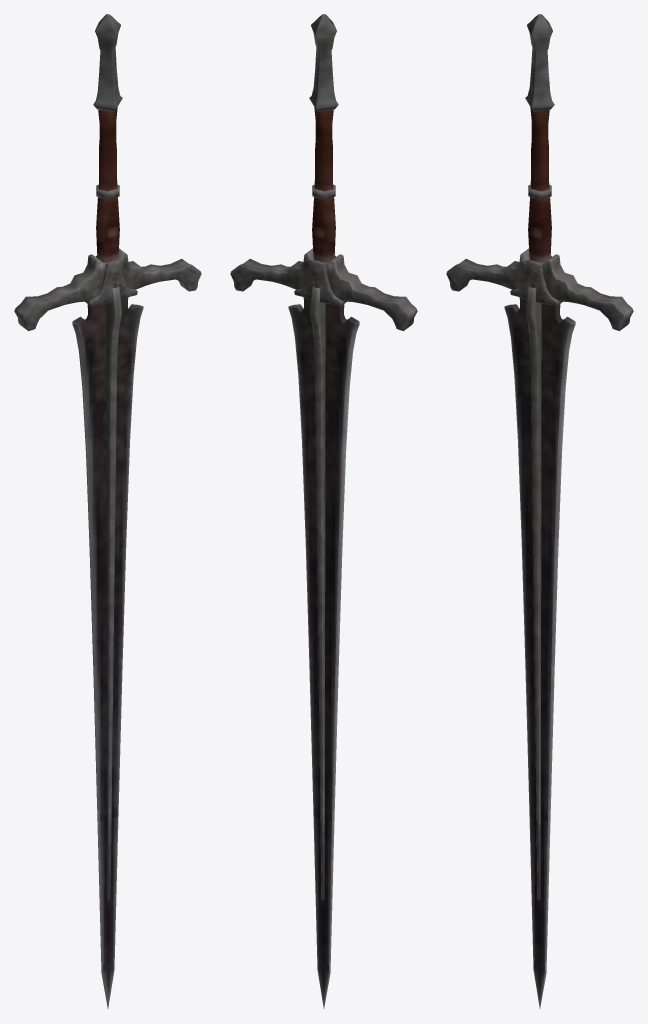
The model's file is weapon-wp_a_0609.glb.
3 renders of one model, left to right at view 1: azimuth 30°, elevation 25°; view 2: azimuth 150°, elevation 25°; view 3: azimuth 330°, elevation 25°, orthographic.
Parts seen in each view (by area): view 1: wp_a_0609_mesh; view 2: wp_a_0609_mesh; view 3: wp_a_0609_mesh.
Boxes of the visible parts, x1,y1,x2,y2 form: wp_a_0609_mesh: (14, 14, 201, 1008); wp_a_0609_mesh: (230, 14, 417, 1008); wp_a_0609_mesh: (446, 14, 633, 1008).
Size of the model in its own units: 0.33 by 1.75 by 0.0692.
Materials: 1 (1 with a texture image).
